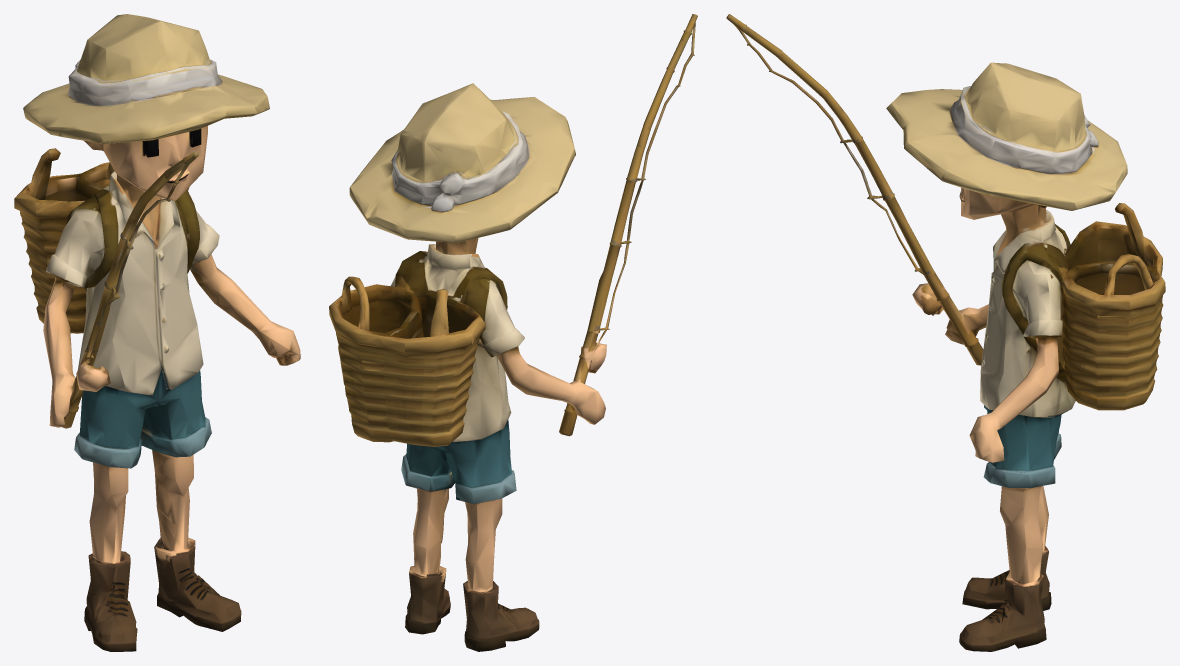
File: hero.glb
3 renders of one model, left to right at view 1: azimuth 30°, elevation 25°; view 2: azimuth 150°, elevation 25°; view 3: azimuth 270°, elevation 25°, orthographic. The views are drawn at different scales.
Visible parts, largest first — view 1: node_0; view 2: node_0; view 3: node_0.
Part boxes in pixels (x1,y1,x2,y2): node_0: [14, 14, 300, 651]; node_0: [329, 14, 697, 651]; node_0: [726, 14, 1165, 651].
Bounding box in the file's own units: 0.4275 × 0.9368 × 0.6651.
Materials: 1 (1 with a texture image).
